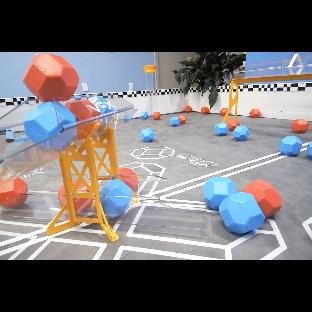V5_BLUE: (23, 101, 78, 143), (203, 177, 237, 210), (44, 127, 80, 147), (87, 96, 117, 115), (278, 136, 302, 156), (232, 125, 250, 141), (214, 121, 230, 136), (140, 128, 155, 142), (170, 116, 180, 126), (141, 112, 148, 119)
V5_RED: (243, 180, 282, 217), (291, 117, 309, 133), (226, 119, 241, 131), (177, 114, 187, 125), (249, 109, 260, 118), (201, 106, 209, 114), (220, 108, 228, 116), (152, 112, 160, 119), (185, 106, 192, 112)
blueingoal: (99, 179, 133, 218)
redingoal: (0, 178, 28, 208), (65, 100, 100, 121), (74, 198, 93, 213), (77, 124, 95, 139), (58, 184, 66, 208), (78, 182, 88, 191)
